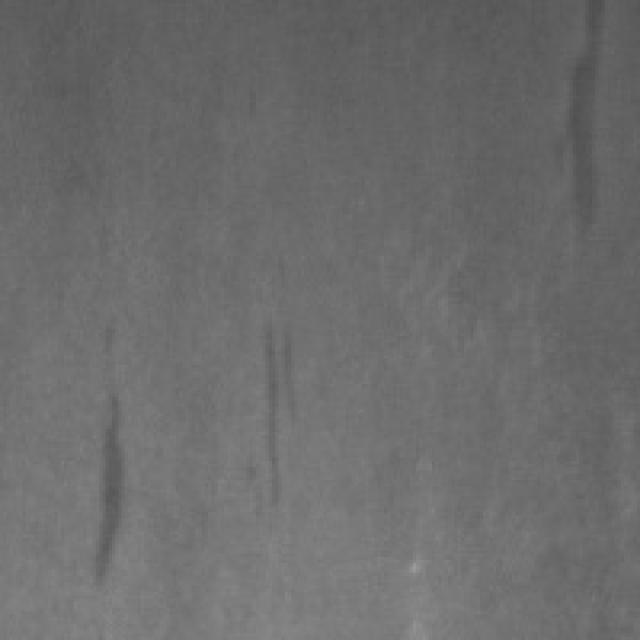inclusion: (547, 0, 611, 246), (77, 358, 141, 586), (240, 307, 304, 509)
